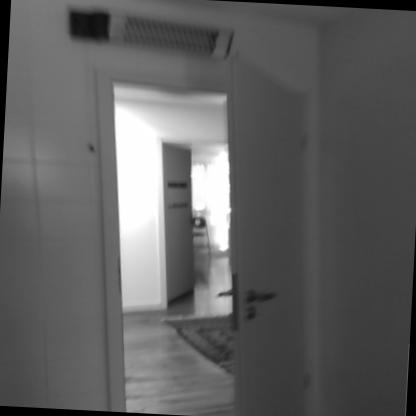semi: (69, 45, 337, 416)
